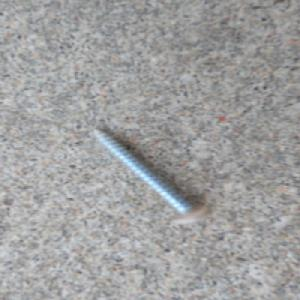Screw: (86, 124, 212, 227)
